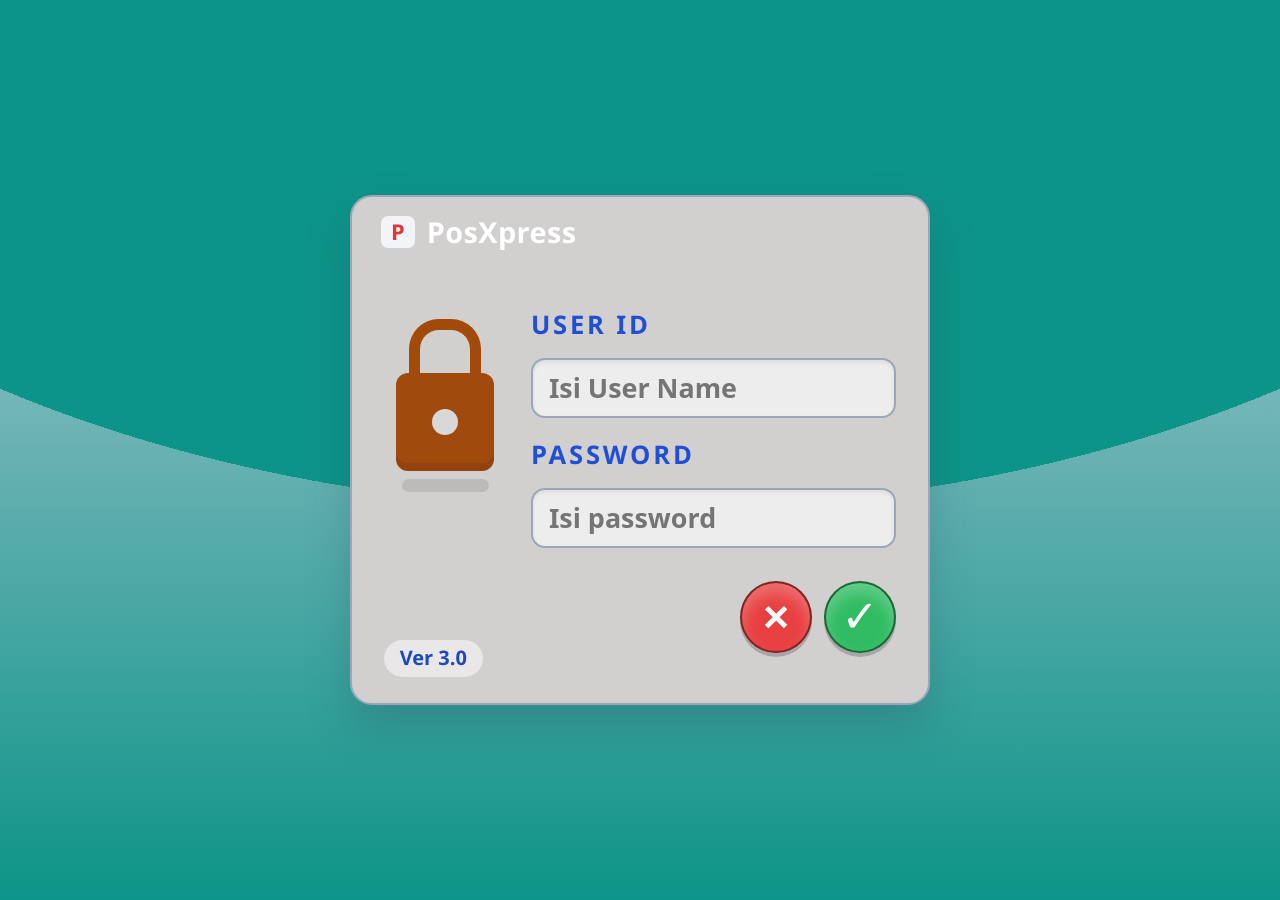
Test: App › menu dashboard tetap tampil saat membuka order pembelian
The width and height of the screenshot is (1280, 900).
Type "admin" into the field labelled "USER ID". click: x=713, y=388
box: [531, 358, 896, 418]
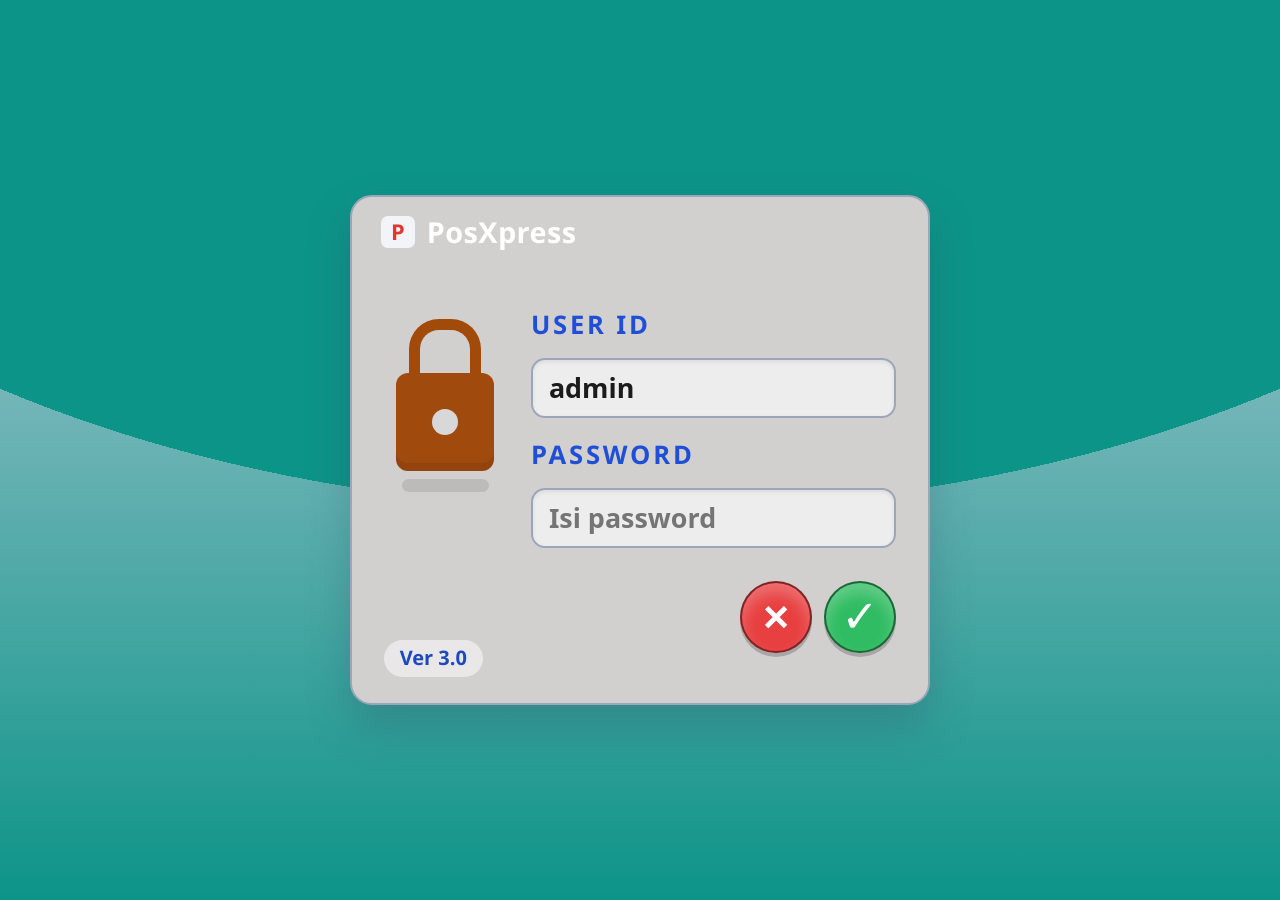
Type "123456" into the password field labelled "PASSWORD". click: x=713, y=518
box: [531, 488, 896, 548]
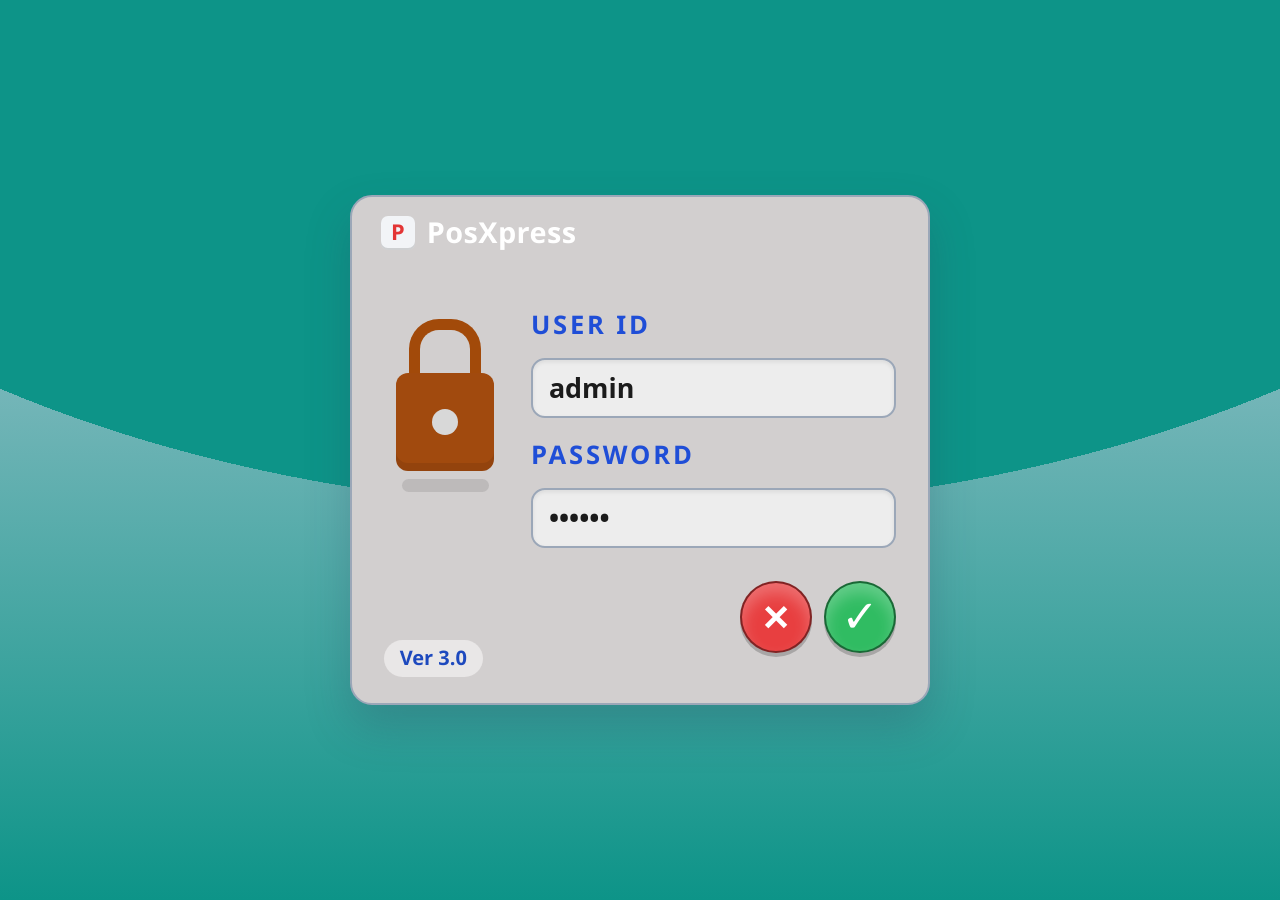
Click the button named "Masuk". click: x=860, y=617
box: [824, 581, 896, 653]
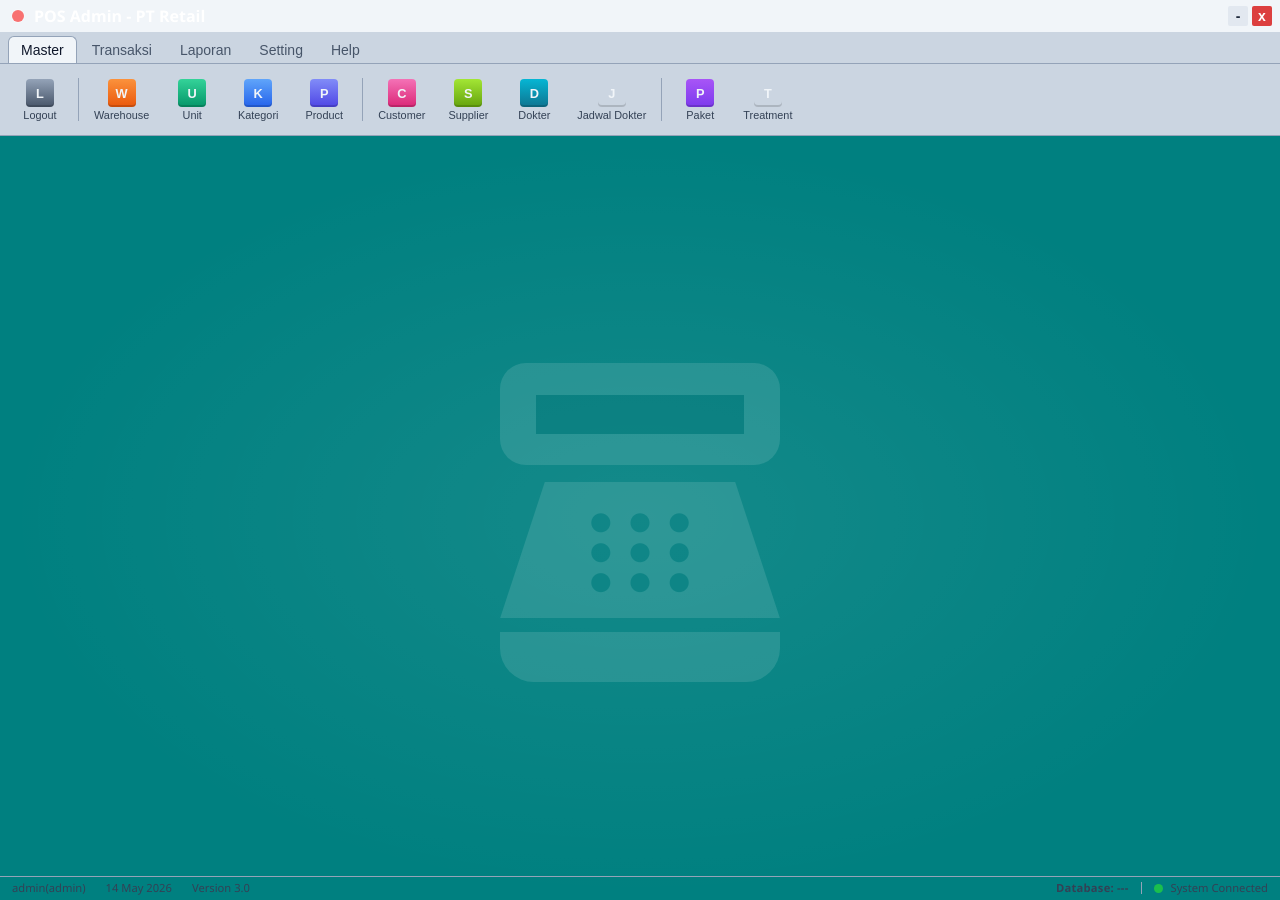
Check: the element named "POS Admin Menu Dashboard" is shown
Click the button "Transaksi". click: x=122, y=50
box: [79, 36, 165, 63]
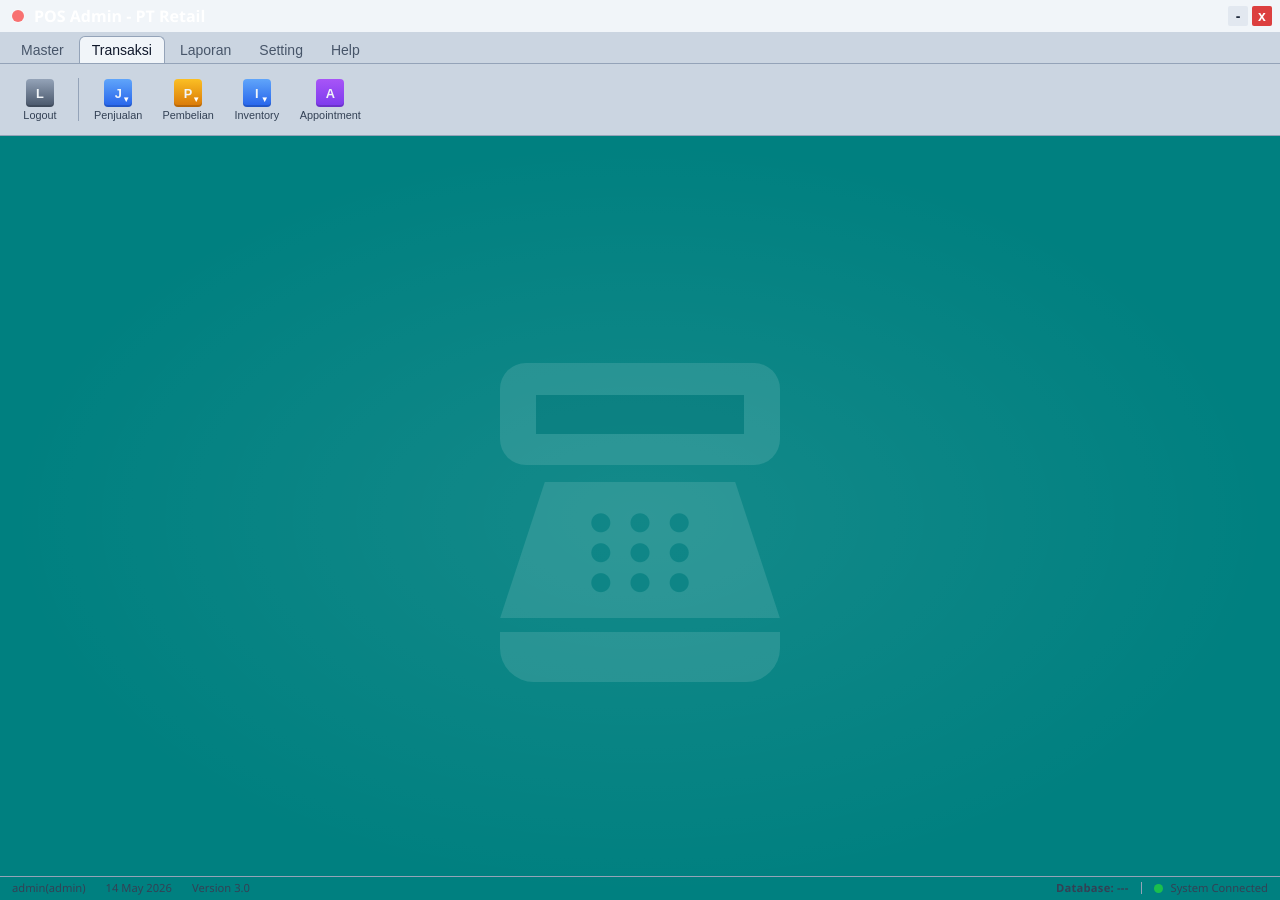
Click the button "P ▼ Pembelian". click: x=188, y=100
box: [153, 68, 223, 132]
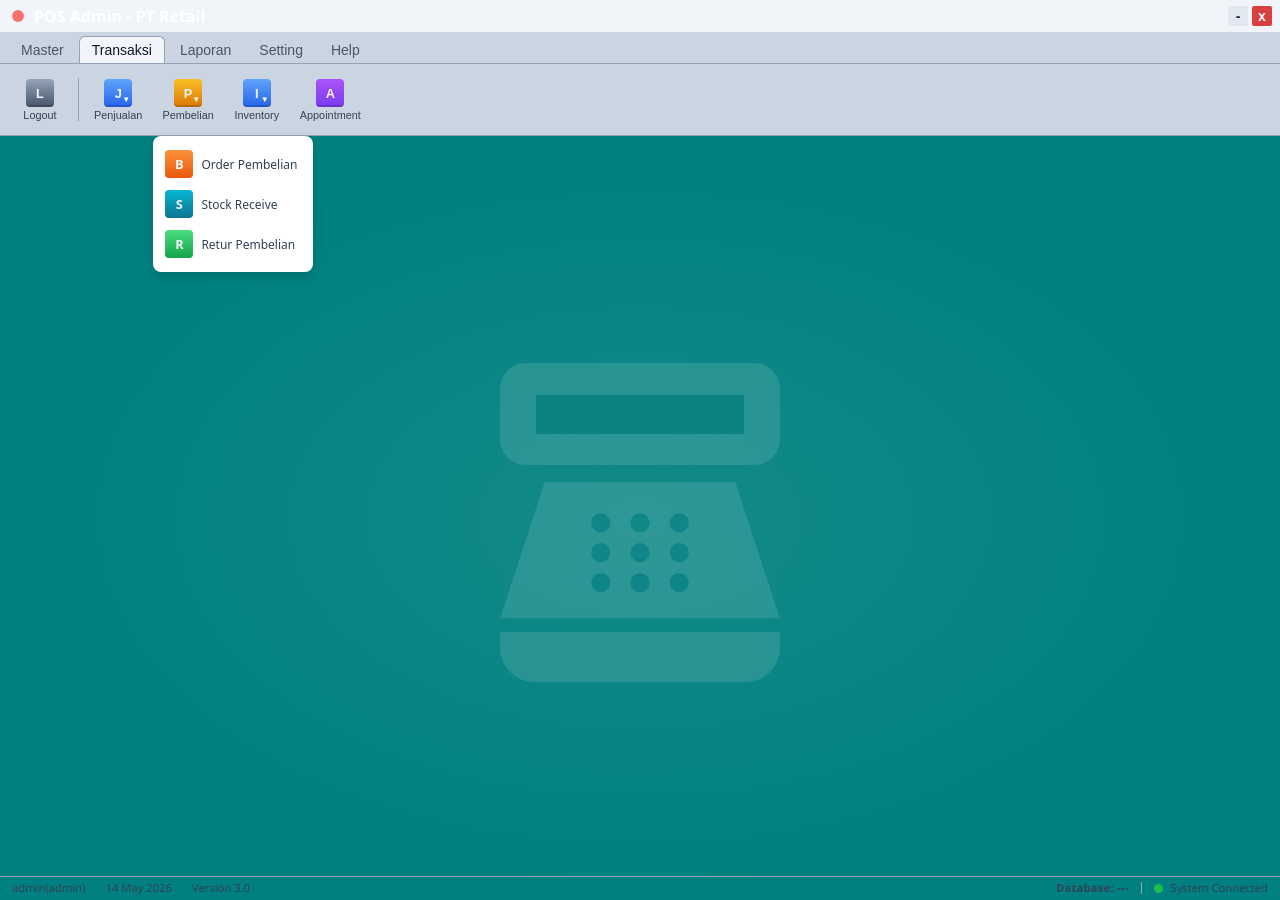
Click the button "B Order Pembelian". click: x=233, y=164
box: [153, 144, 313, 184]
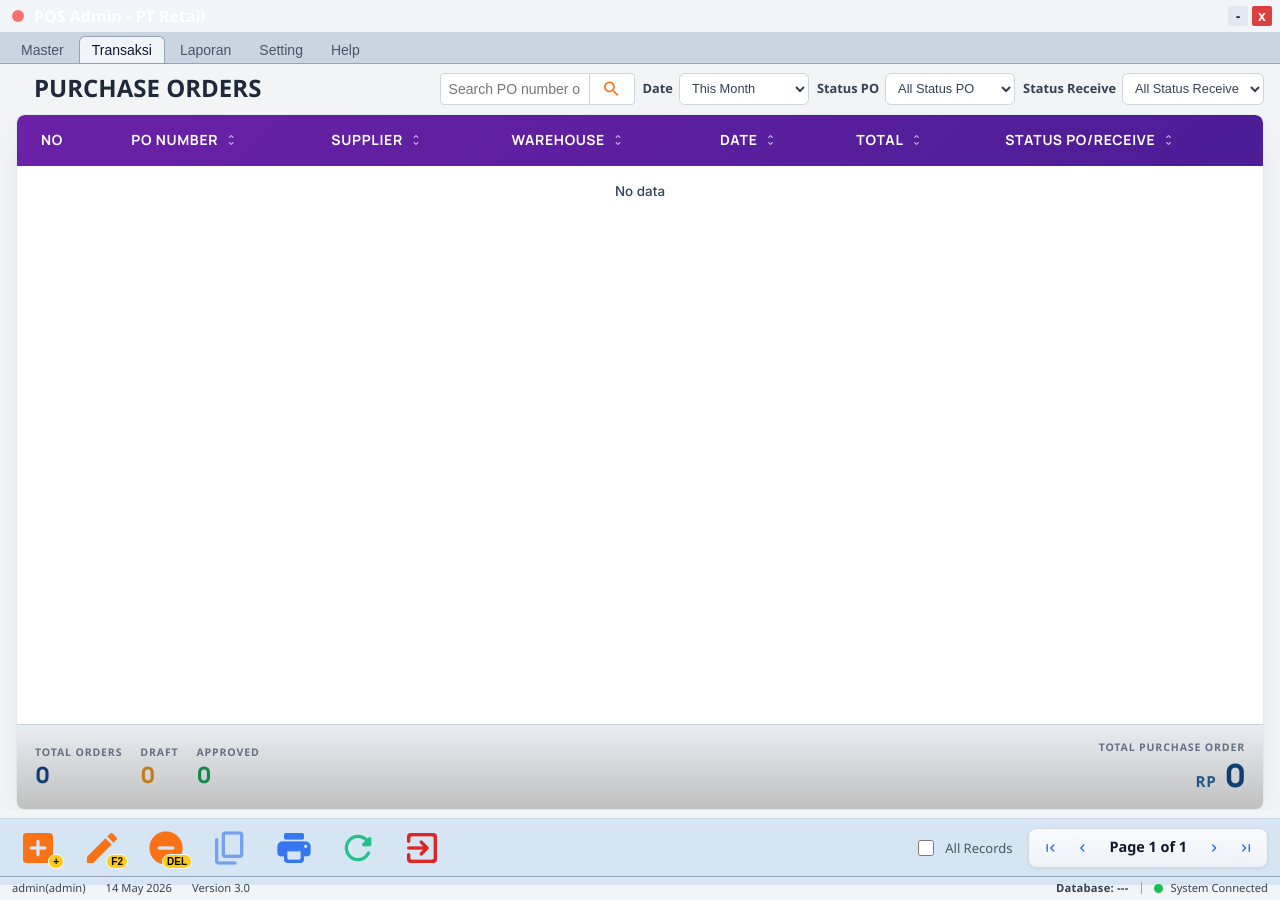
Check: the button "Master" is shown, box [8, 36, 77, 63]
Check: the button "Transaksi" is shown, box [79, 36, 165, 63]
Check: the heading "Purchase Orders" is shown, box [34, 72, 261, 106]
